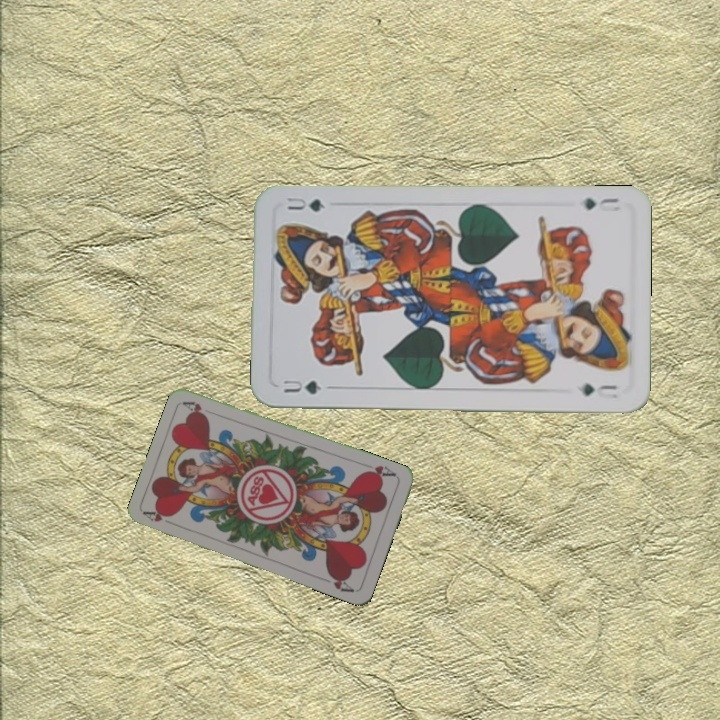GU: (279, 377, 324, 397), (579, 193, 622, 212)
HA: (140, 505, 180, 529), (360, 461, 399, 481)
